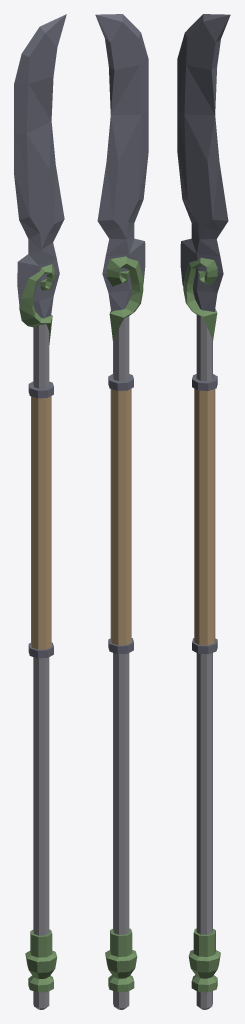
Rendered from Lanca_B22.fbx.
The picture shows the model from 3 angles, left to right: view 1: azimuth 30°, elevation 25°; view 2: azimuth 210°, elevation 25°; view 3: azimuth 330°, elevation 25°; orthographic projection.
Visible parts, largest first — view 1: polearm_22; view 2: polearm_22; view 3: polearm_22.
Boxes of the visible parts, box(x1,y1,x2,y2) form: polearm_22: box(14, 14, 66, 1009); polearm_22: box(95, 14, 148, 1009); polearm_22: box(177, 14, 230, 1009).
Bounding box in the file's own units: 11.7 × 209 × 6.35.
